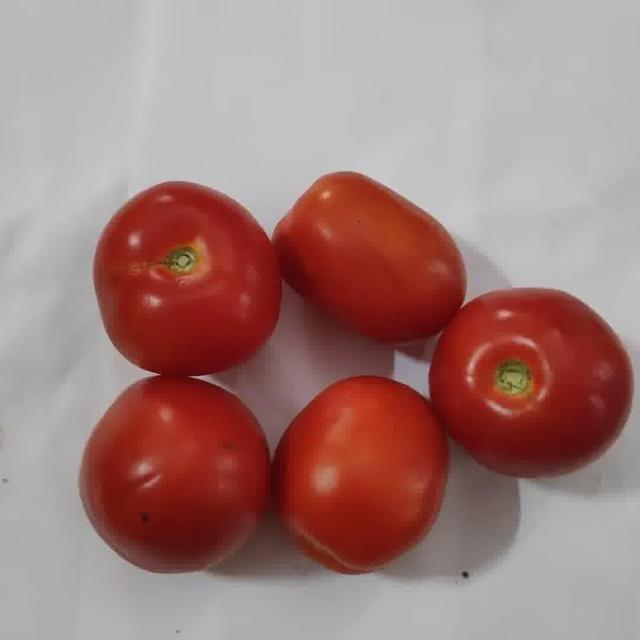Tomato: (431, 289, 632, 476), (81, 376, 269, 571), (94, 181, 281, 376), (276, 377, 447, 572), (273, 172, 466, 343)
